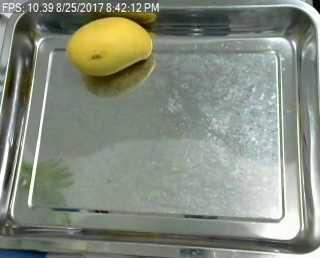Mango: (63, 13, 155, 82)
